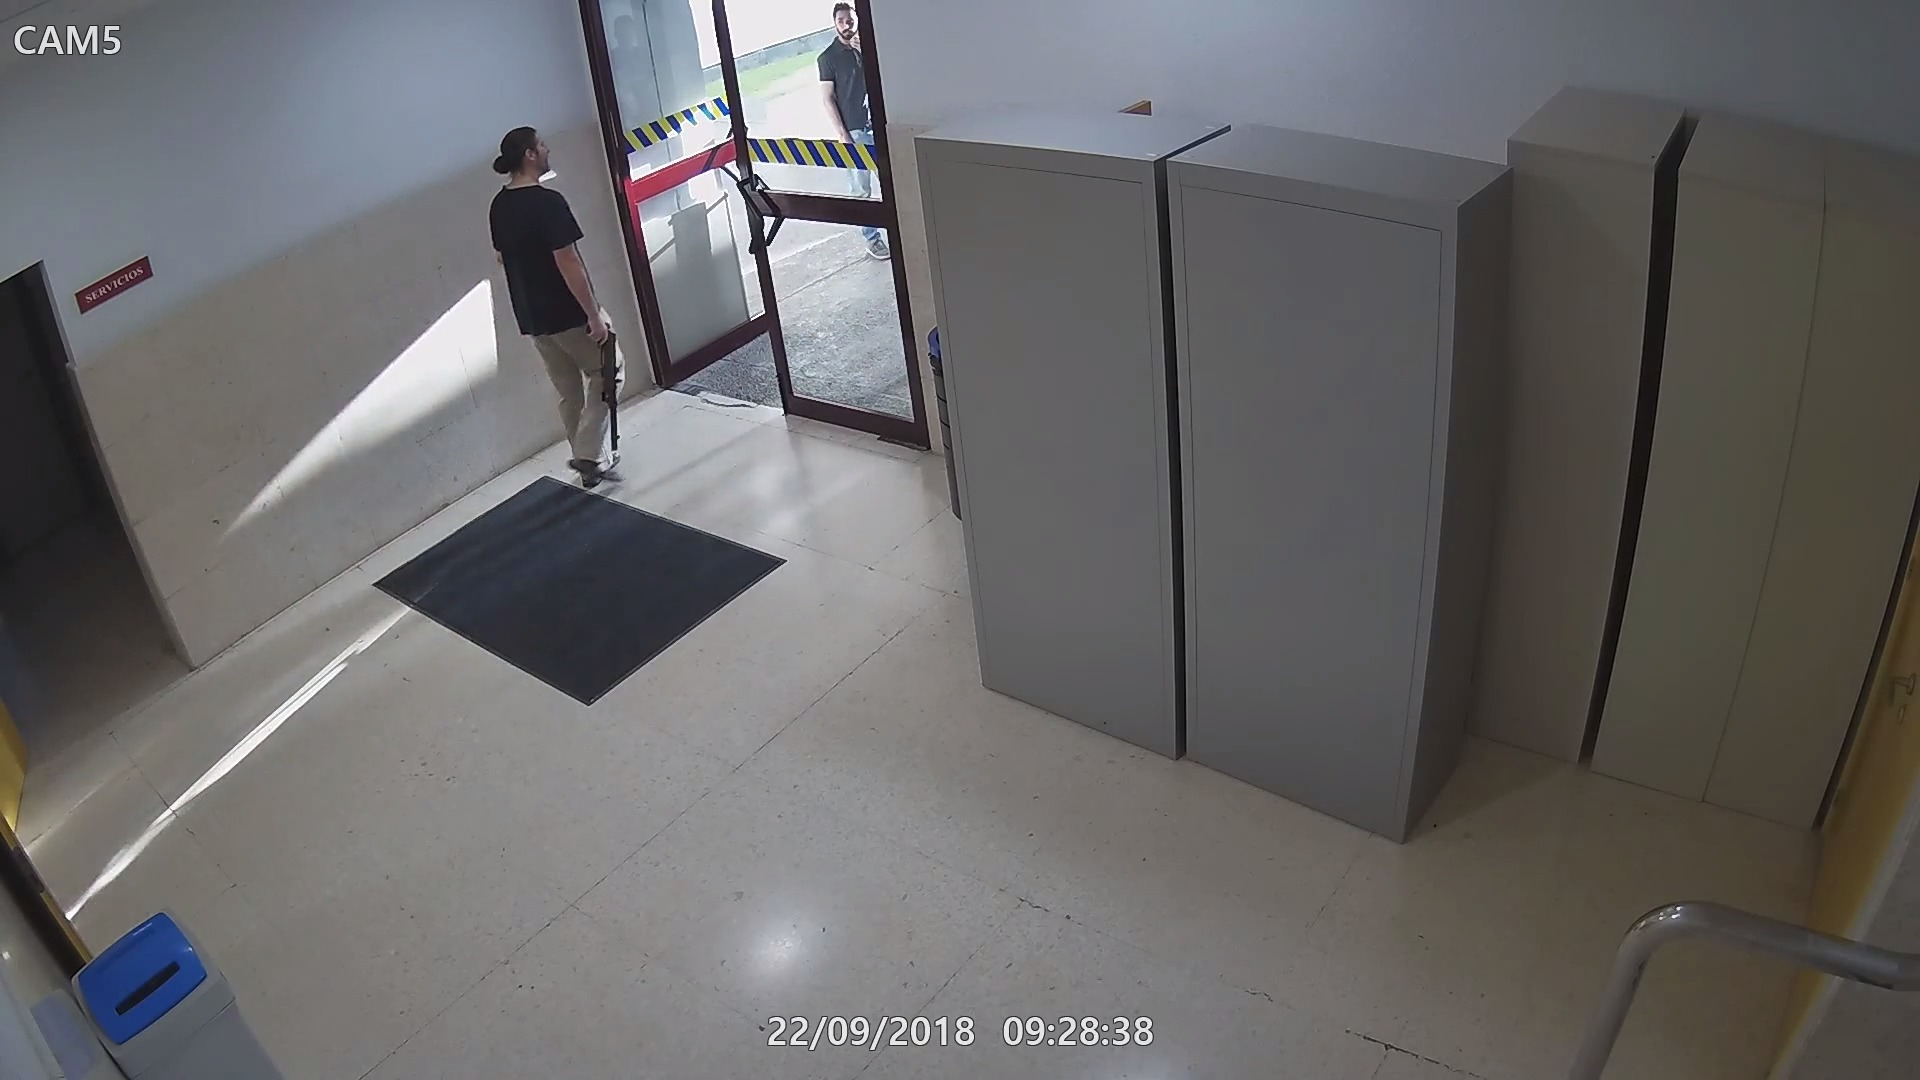Short_rifle: (582, 322, 621, 454)
